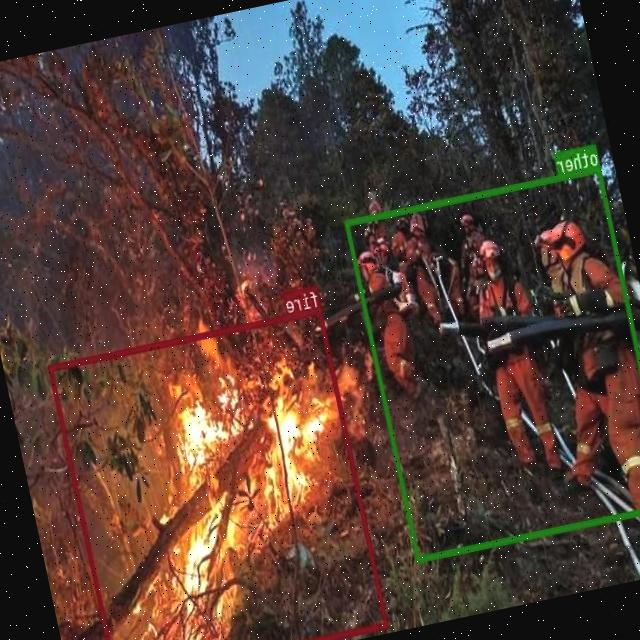fire: (47, 305, 389, 640)
